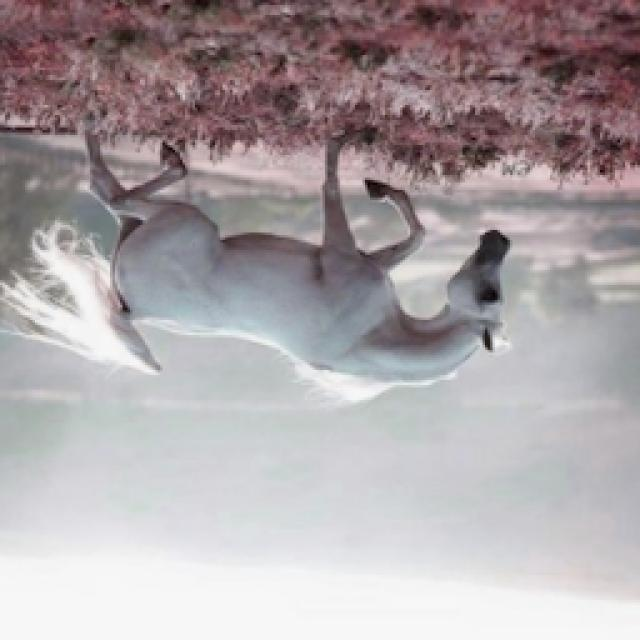Horse: (2, 115, 520, 413)
